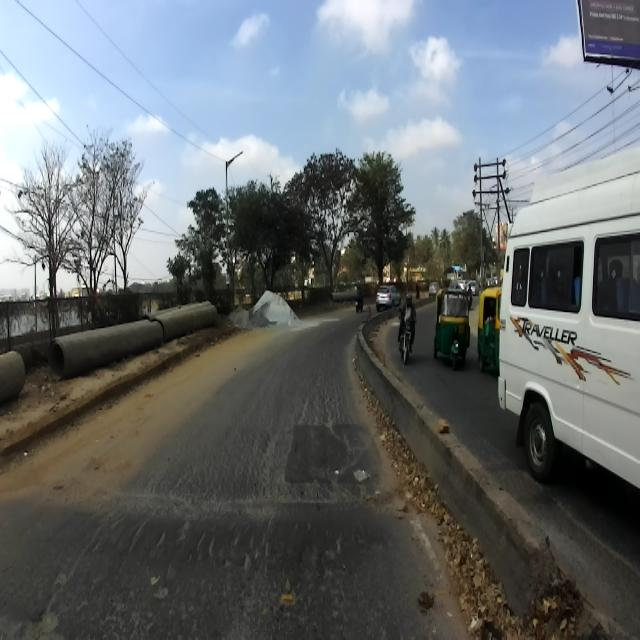barrier ahead at: (52, 316, 168, 374)
bus ahead at: (502, 161, 640, 488)
